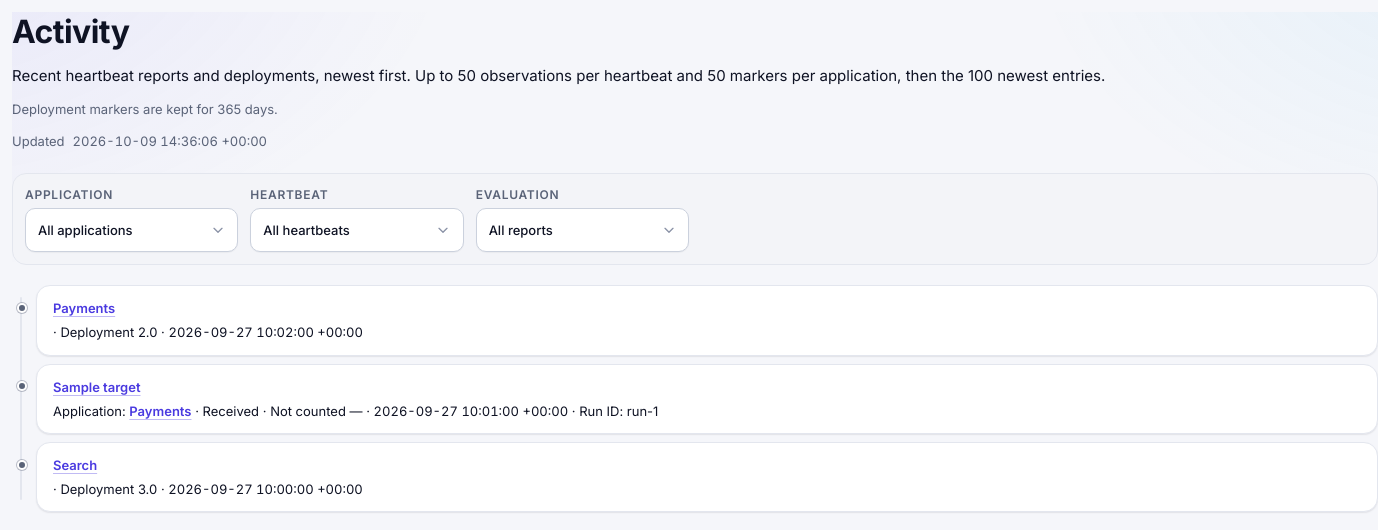
Test: merges deployments by report time and filters both sources by application
Select "Payments" in the dropdown labelled "Application" at (132, 230), box top-left (25, 208), bottom-right (238, 252)
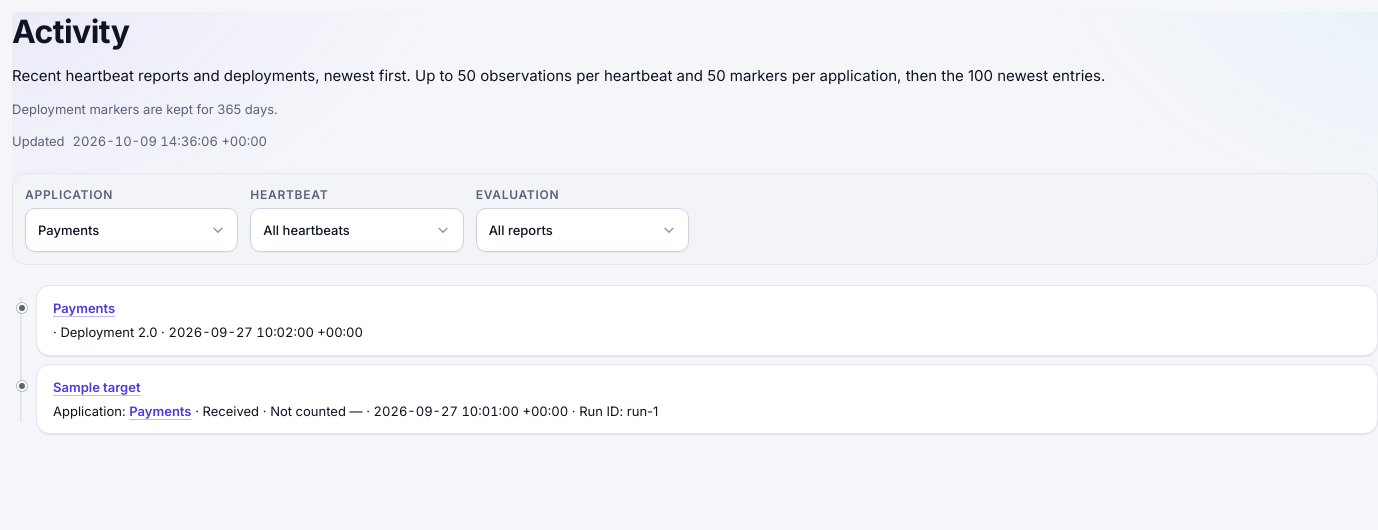
Check: the list item "Run ID: run-1" is shown, box top-left (36, 364), bottom-right (1377, 434)
Check: the list item "Deployment 3.0" is gone
Select "Sample target" in the dropdown labelled "Heartbeat" at (357, 230), box top-left (250, 208), bottom-right (464, 252)
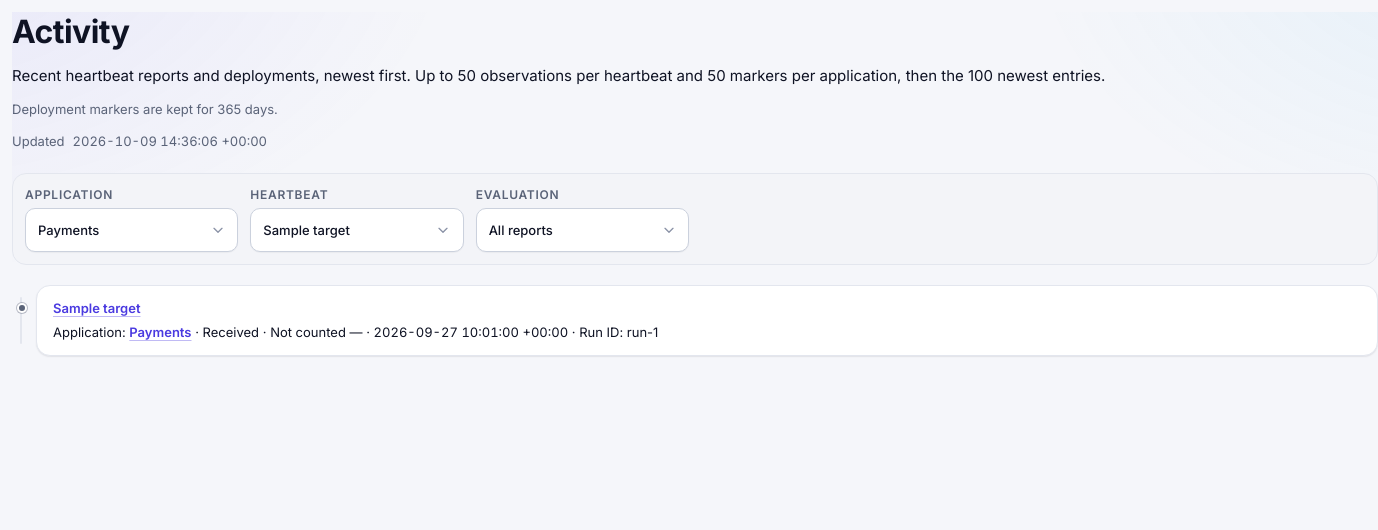
Check: the list item "Deployment 2.0" is gone
